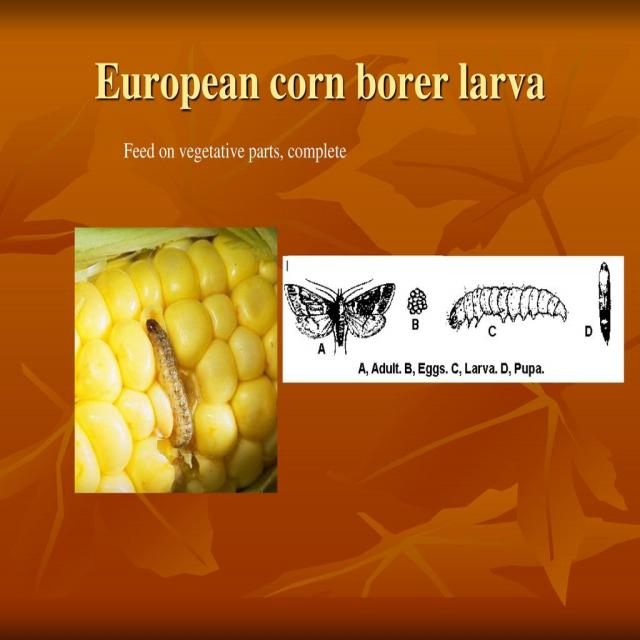cornborer-Larva-: (139, 303, 207, 460)
